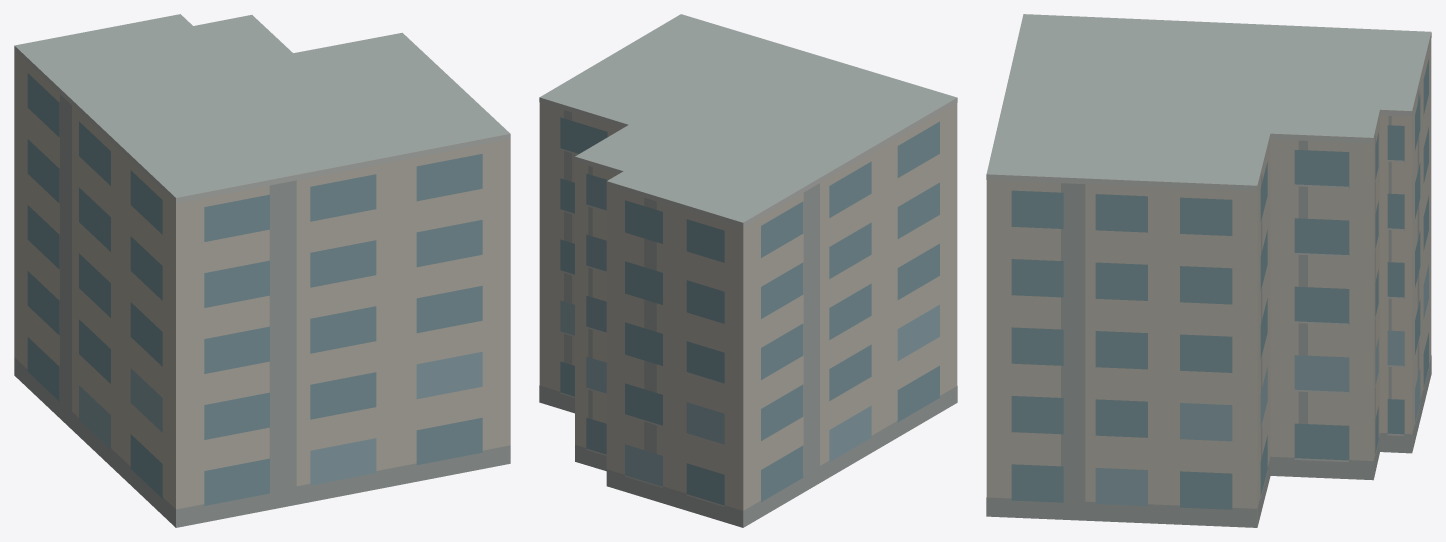
File: survey-upis-32567188.glb
3 renders of one model, left to right at view 1: azimuth 30°, elevation 25°; view 2: azimuth 150°, elevation 25°; view 3: azimuth 270°, elevation 25°, orthographic. The views are drawn at different scales.
Visible parts, largest first — view 1: survey-upis-32567188.tmp; view 2: survey-upis-32567188.tmp; view 3: survey-upis-32567188.tmp.
Boxes of the visible parts, box(x1,y1,x2,y2) form: survey-upis-32567188.tmp: box(14, 14, 510, 527); survey-upis-32567188.tmp: box(539, 14, 957, 527); survey-upis-32567188.tmp: box(986, 14, 1431, 527).
Size of the model in its own units: 15.72 by 14.6 by 17.22.
